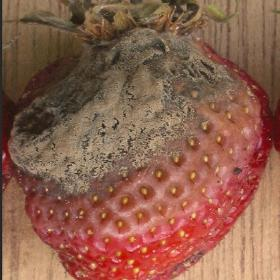Gray Mold: (7, 0, 266, 279)
